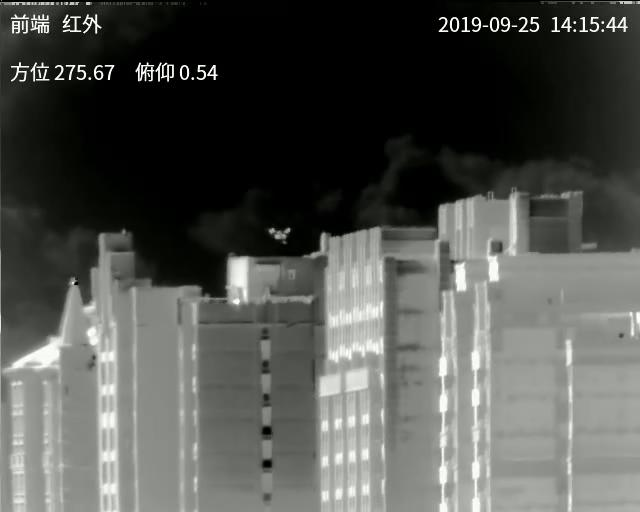uav: (269, 223, 293, 246)
